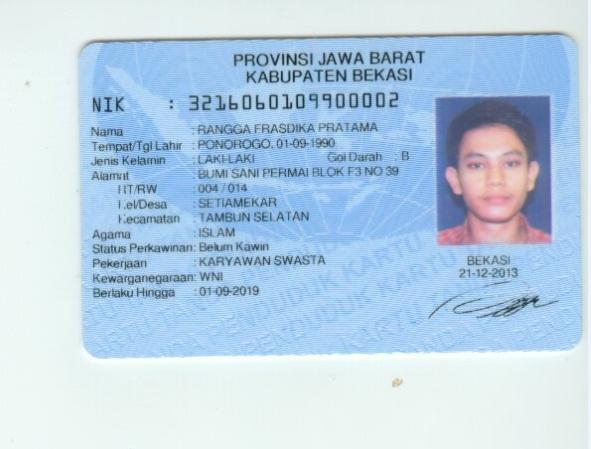ID-card: (82, 35, 578, 354)
